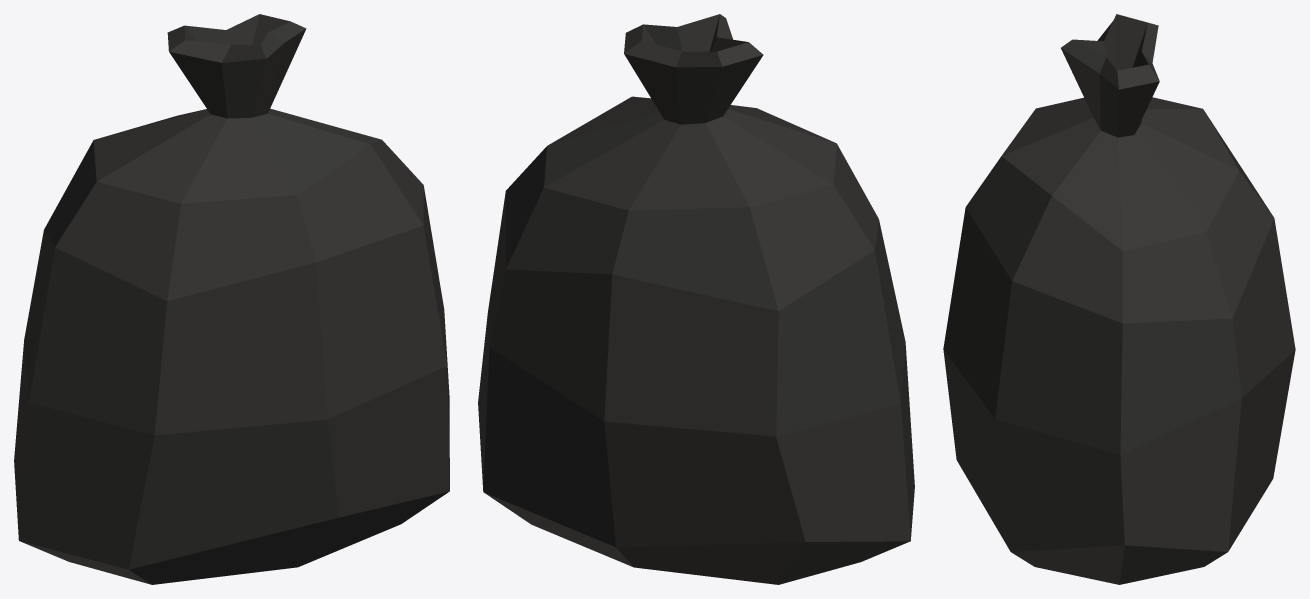
File: Trash_Bag_1.fbx
The picture shows the model from 3 angles, left to right: view 1: azimuth 30°, elevation 25°; view 2: azimuth 150°, elevation 25°; view 3: azimuth 270°, elevation 25°; orthographic projection. The views are drawn at different scales.
Parts seen in each view (by area): view 1: Trash_Bag_1; view 2: Trash_Bag_1; view 3: Trash_Bag_1.
Boxes of the visible parts, x1,y1,x2,y2 form: Trash_Bag_1: (14,14,449,584); Trash_Bag_1: (478,14,914,584); Trash_Bag_1: (943,14,1295,584).
Size of the model in its own units: 62.22 by 67.9 by 45.89.
1 material, 1 textured.
